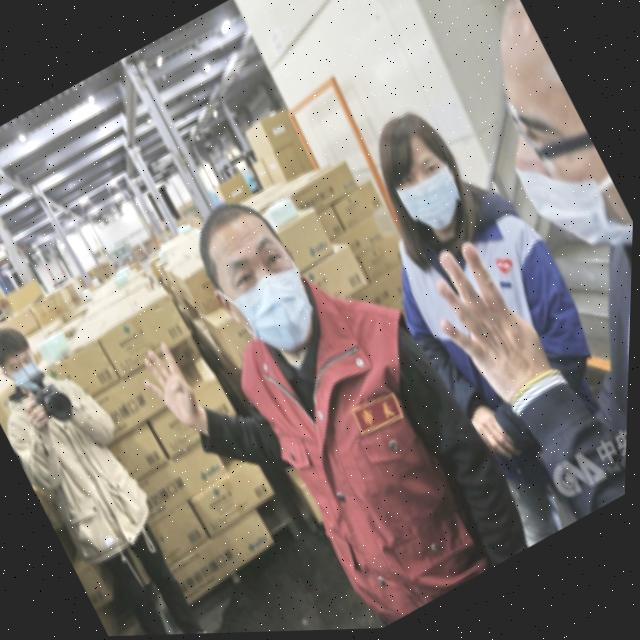Mask: (487, 88, 638, 295), (204, 240, 339, 381), (381, 147, 478, 253), (3, 346, 51, 397)
